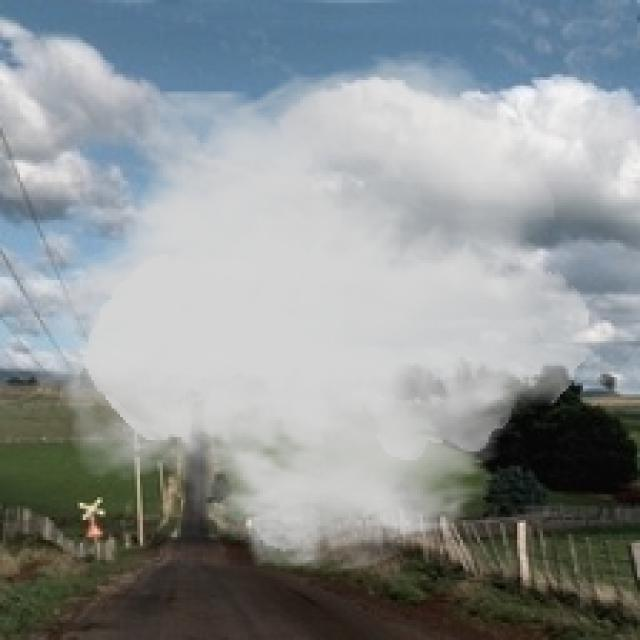Smoke: (29, 45, 592, 578)
